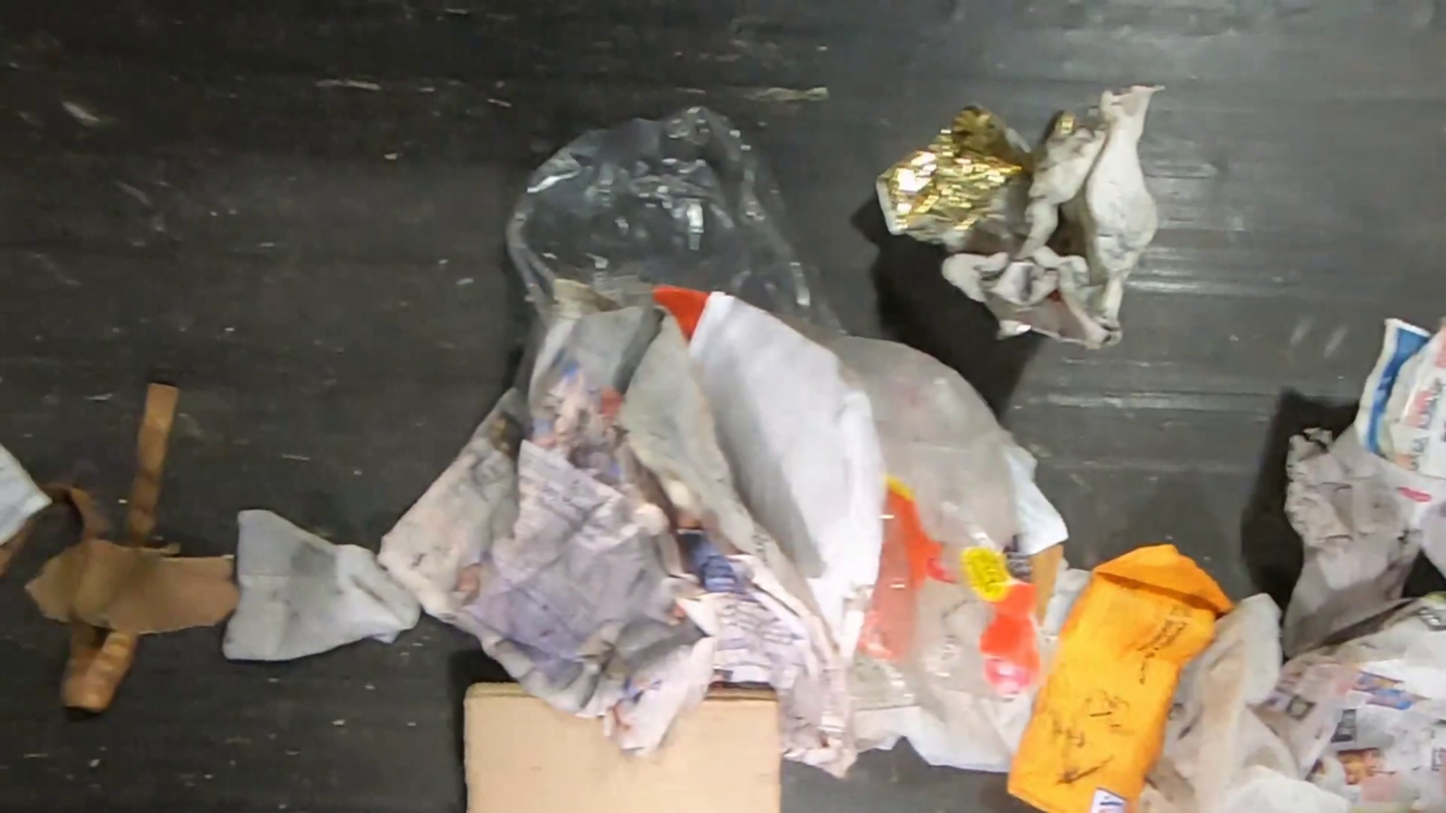cardboard: (463, 683, 785, 813)
plastic: (502, 99, 1038, 716)
